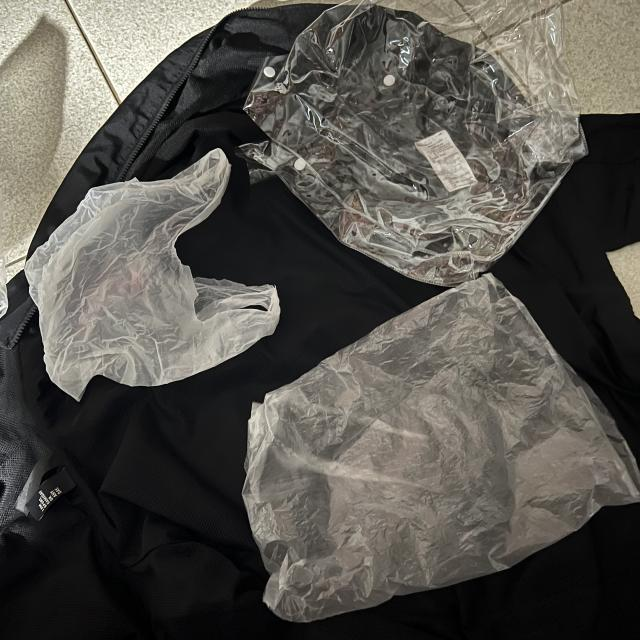Single-layer Plastic: (242, 274, 640, 622), (241, 4, 580, 286), (25, 150, 280, 399)
